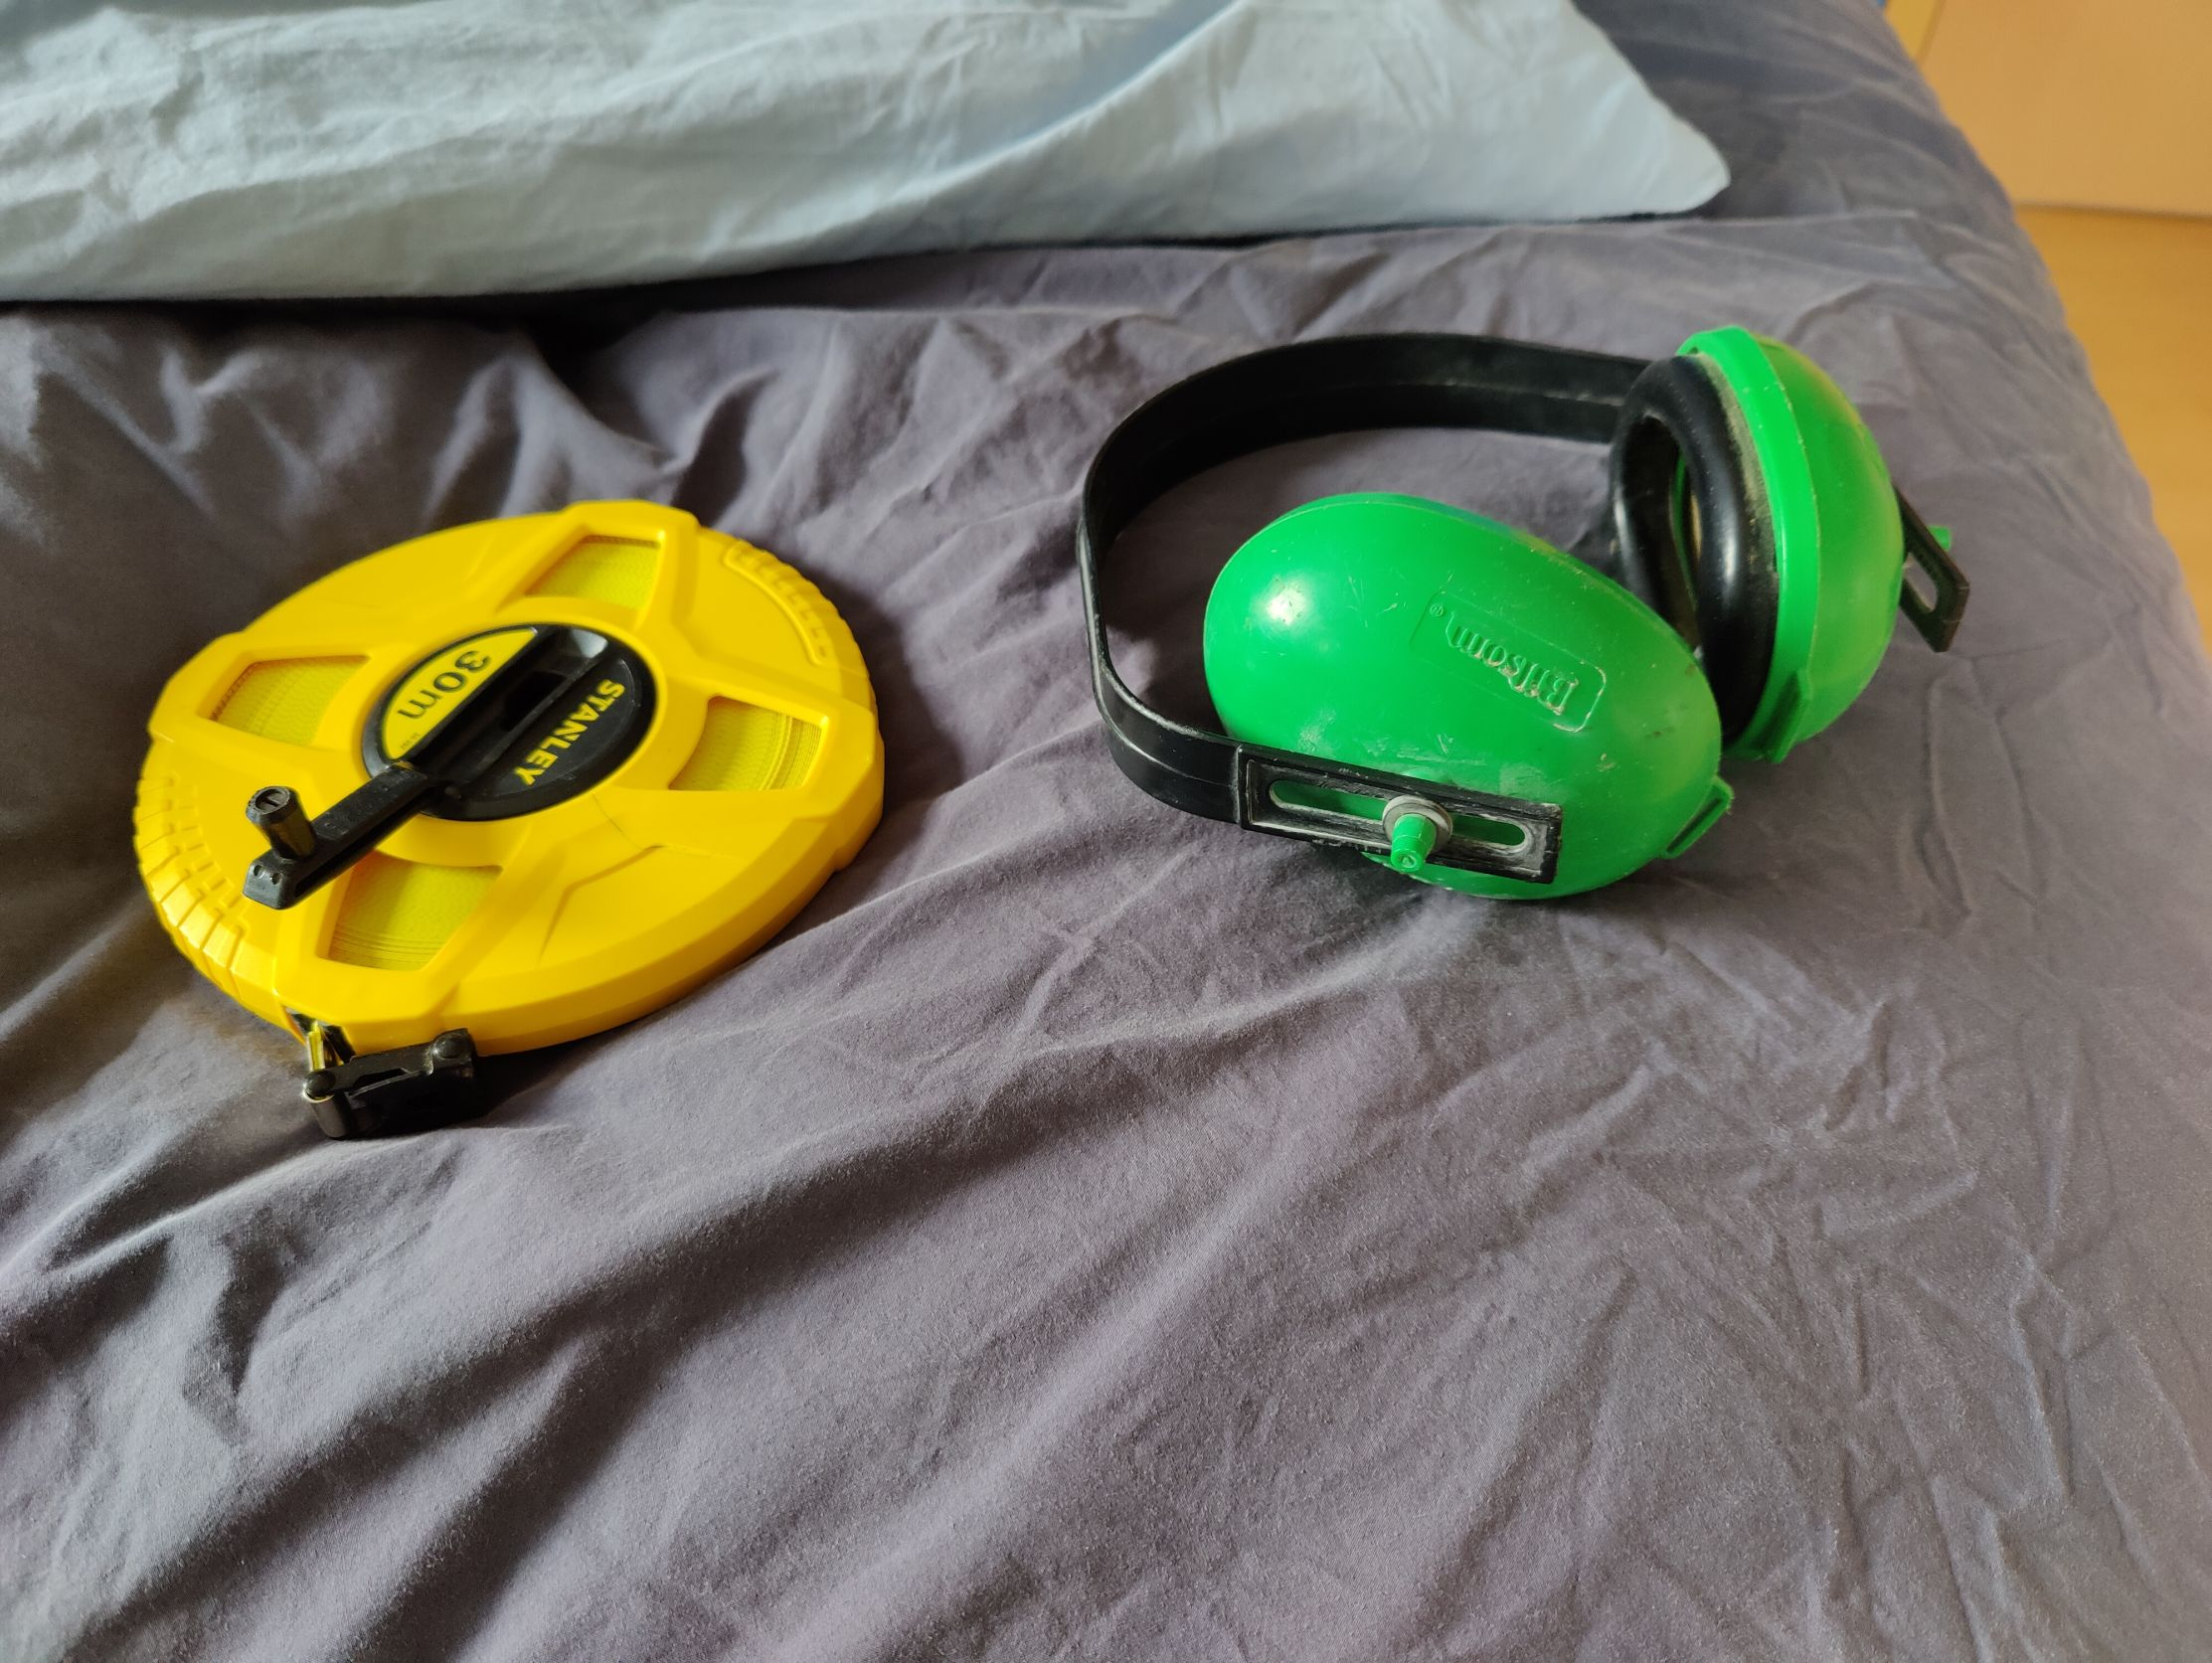headphones: (1075, 316, 1971, 921)
tapemeasure: (135, 496, 893, 1141)
